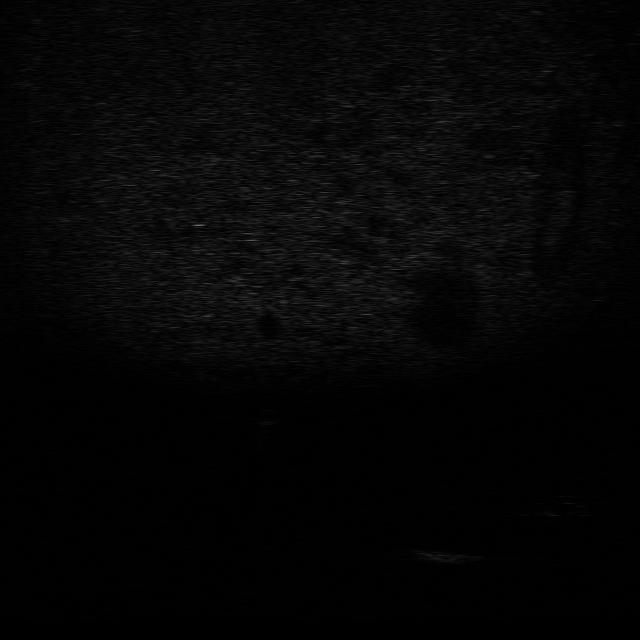ball: (246, 405, 292, 426)
metal bucket: (396, 542, 500, 568)
tyre: (533, 496, 585, 520)
